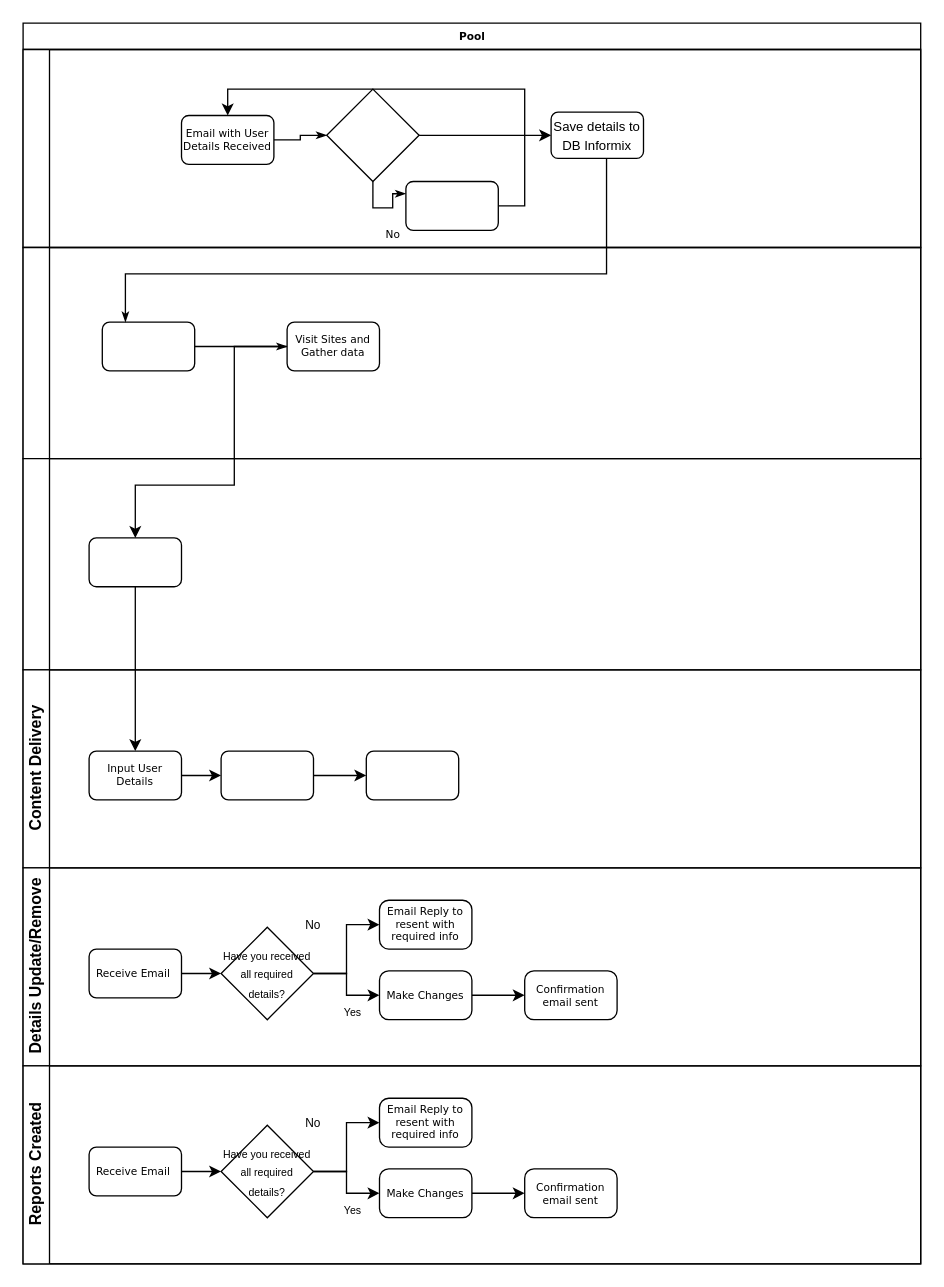
The diagram is 944 pixels wide and 1287 high, and some of its shapes have lost their labels. The shapes that lost their labels are listed below. From the top down, each one's box as (x1, y1, x2, y2) in pixels, then its label:
(325, 88, 419, 182): Does Email Follow correct Format
(22, 48, 921, 248): User Registration
(405, 180, 498, 230): Email - resend with correct format
(101, 321, 195, 371): Gather User Details
(22, 246, 921, 459): Content Aggregator
(88, 537, 182, 587): Clean content
(22, 457, 921, 670): Content Manipulation
(220, 750, 314, 800): Input Content
(365, 750, 459, 800): Send Email
